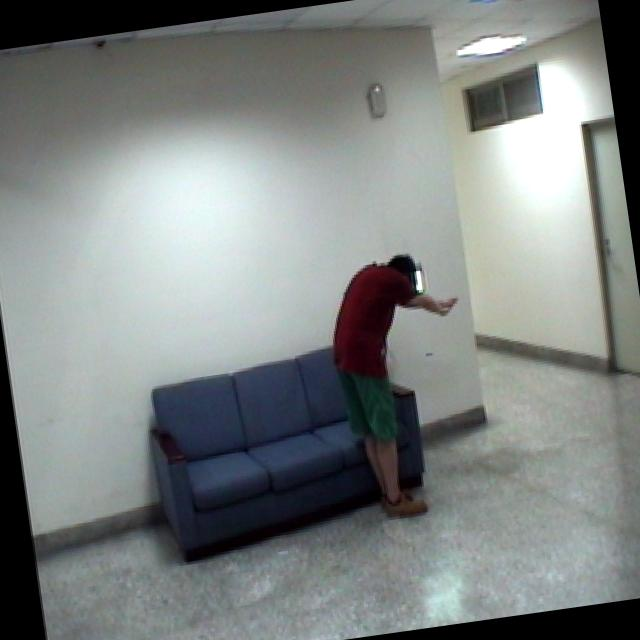bend: (314, 243, 490, 532)
